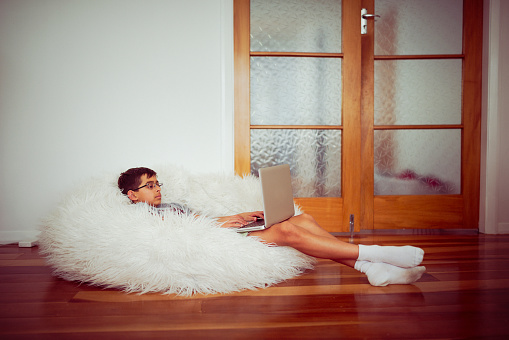deitado: (113, 159, 177, 211)
